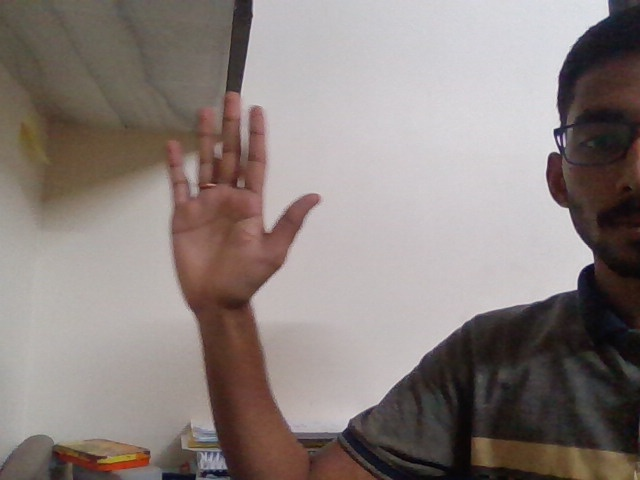Hello: (143, 62, 337, 336)
